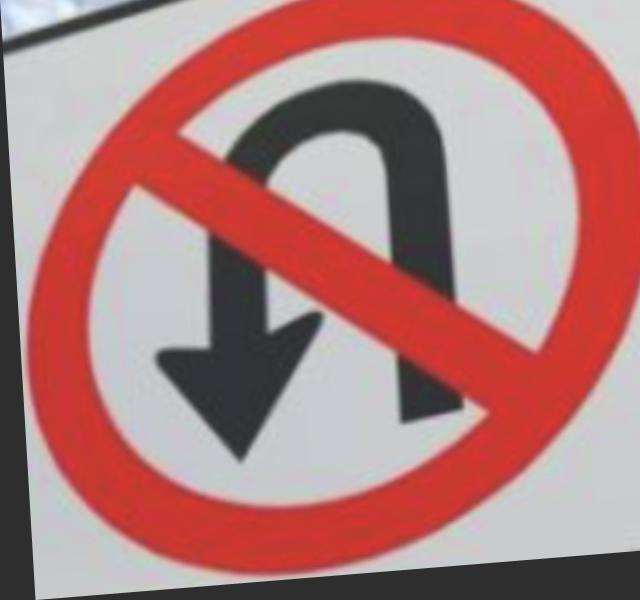not_u_turn_left: (19, 0, 640, 594)
